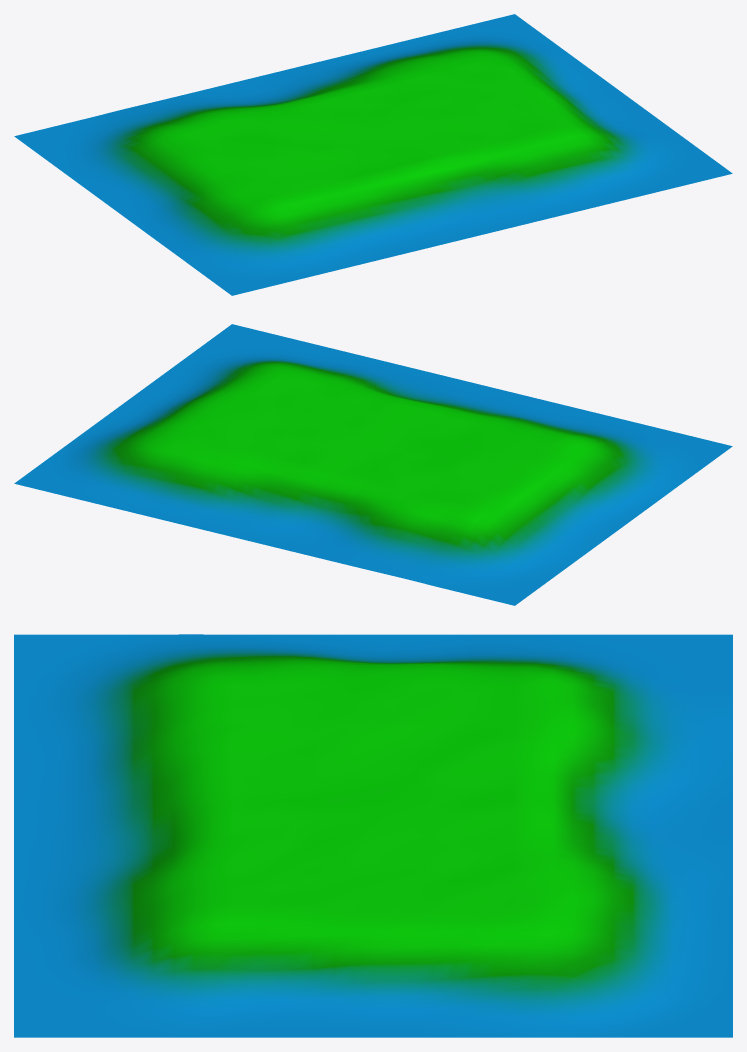
Rendered from camp_hard.glb.
3 views of the same model, one above another, from view 1: azimuth 30°, elevation 25°; view 2: azimuth 150°, elevation 25°; view 3: azimuth 270°, elevation 25° (orthographic). The views are drawn at different scales.
Visible parts, largest first — view 1: camp_hard; view 2: camp_hard; view 3: camp_hard.
Boxes of the visible parts, x1,y1,x2,y2 form: camp_hard: [14, 14, 732, 295]; camp_hard: [14, 324, 732, 605]; camp_hard: [14, 634, 732, 1037].
Size of what is drawn, in the model's own units: 24.4 by 1.18 by 18.4.
